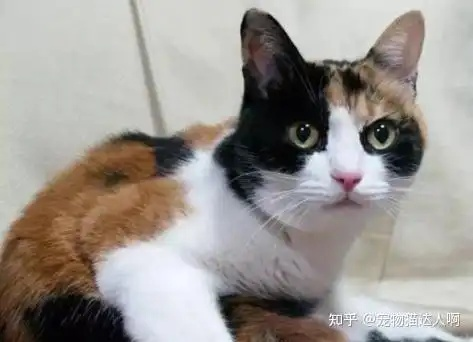三花猫: (0, 134, 191, 341)
